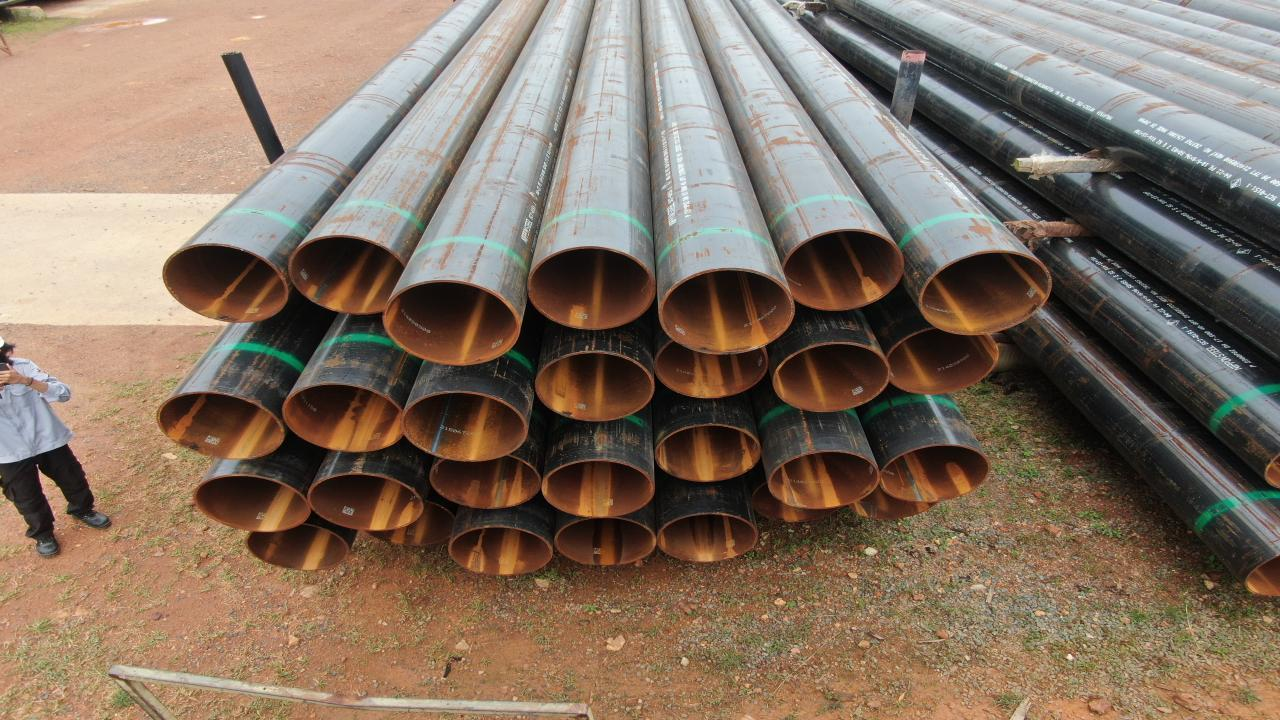pipe: (381, 279, 524, 367), (916, 247, 1053, 336), (660, 266, 795, 354), (526, 245, 657, 332), (780, 227, 906, 312), (160, 241, 288, 324), (286, 234, 406, 316), (399, 390, 529, 463), (156, 390, 284, 461), (280, 382, 406, 453), (533, 350, 656, 422), (772, 340, 891, 413), (882, 328, 1001, 396), (306, 472, 425, 532), (766, 449, 882, 510), (540, 458, 655, 519), (654, 338, 769, 399), (193, 474, 311, 533), (878, 444, 991, 504), (654, 422, 762, 483), (428, 455, 543, 510), (655, 512, 760, 564), (448, 524, 554, 575), (554, 517, 659, 566), (246, 525, 350, 570)
